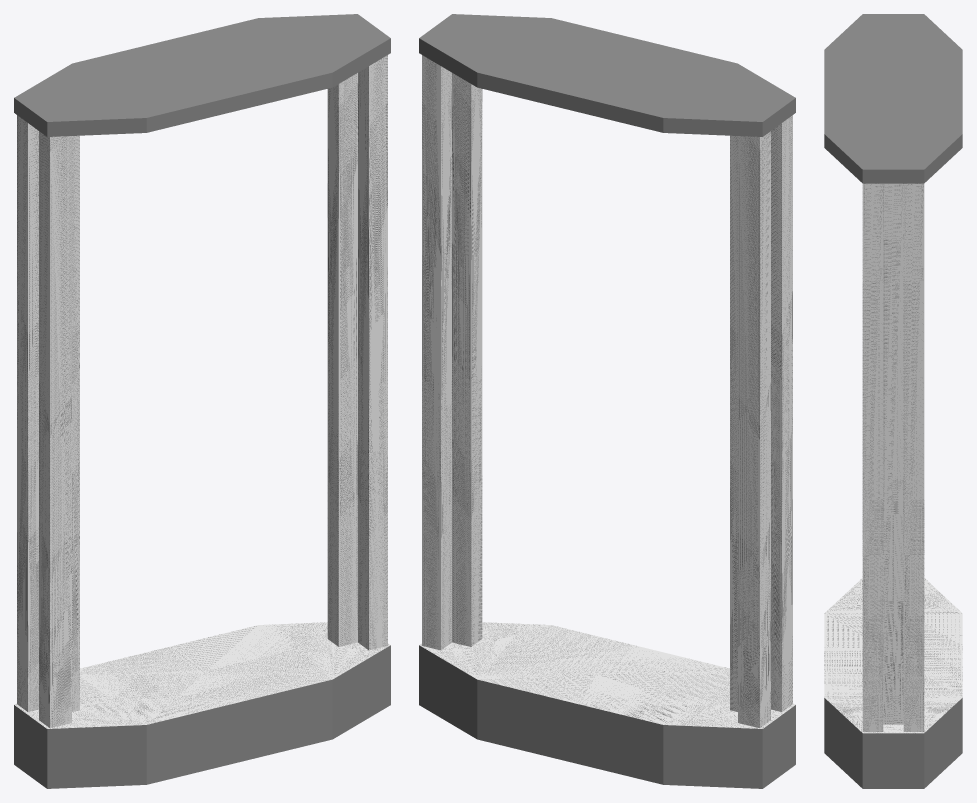
File: KrexanS5.dae
3 views of the same model, side by side, from view 1: azimuth 30°, elevation 25°; view 2: azimuth 150°, elevation 25°; view 3: azimuth 270°, elevation 25° (orthographic). The views are drawn at different scales.
Parts seen in each view (by area): view 1: SketchUp (×3); view 2: SketchUp (×3); view 3: SketchUp (×2).
Boxes of the visible parts, x1,y1,x2,y2 form: SketchUp (×3): (14, 14, 390, 788); SketchUp (×3): (419, 14, 795, 788); SketchUp (×2): (824, 14, 962, 788).
Bounding box in the file's own units: 47.24 × 17.72 × 87.6.
2 materials, 1 textured.
